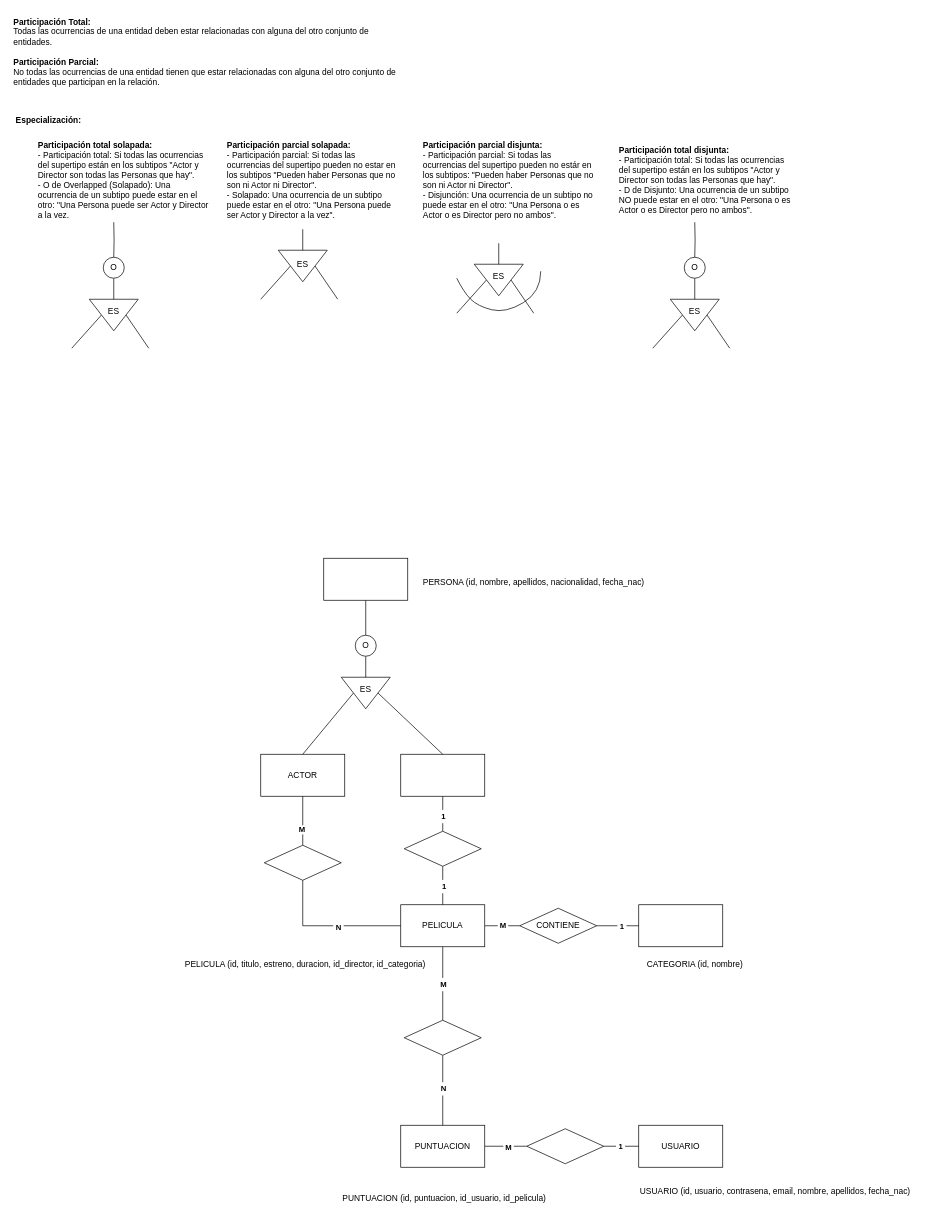
The diagram is 944 pixels wide and 1221 high, and some of its shapes have lost their labels. Here are the shapes that lost their labels. From the top down, the box of each, then its label:
(323, 558, 408, 600): PERSONA
(400, 754, 485, 796): DIRECTOR
(264, 845, 341, 880): PARTICIPA
(404, 831, 481, 866): DIRIGE
(638, 904, 723, 947): CATEGORIA
(404, 1020, 481, 1055): OBTIENE
(526, 1128, 604, 1164): INGRESA
